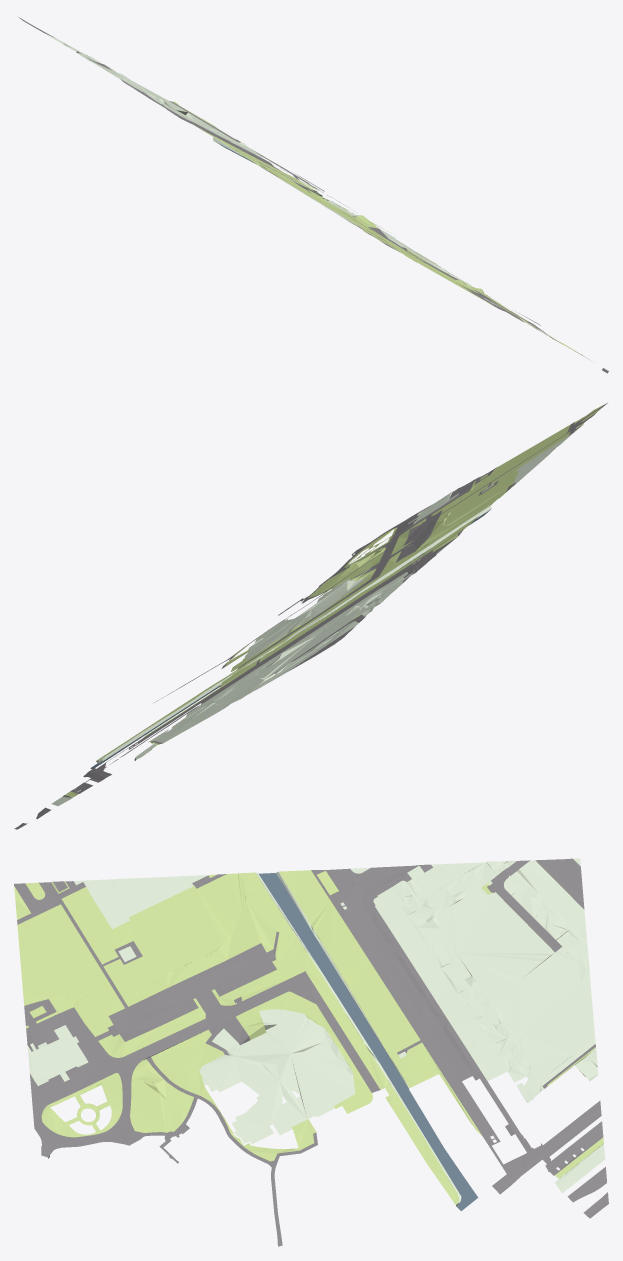
The picture shows the model from 3 angles, top to bottom: view 1: azimuth 30°, elevation 25°; view 2: azimuth 150°, elevation 25°; view 3: azimuth 270°, elevation 25°; orthographic projection. The views are drawn at different scales.
Size of the model in its own units: 157 by 115 by 262.
